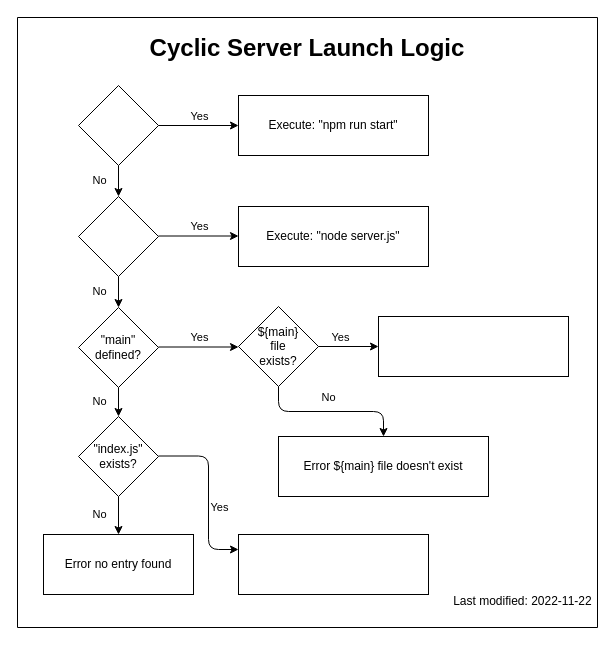
Some shapes in this 615 by 645 pixel diagram are drawn without their labels. Each missing label, with the centre of its shape:
"server.js" exists?: (118,236)
"start" defined?: (118,125)
Execute: "node ${main}": (473,346)
Execute: "node index.js": (333,564)
